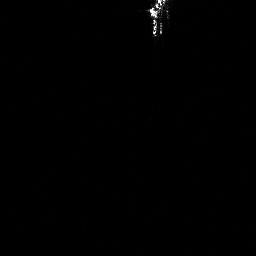ship: (145, 1, 170, 38)
